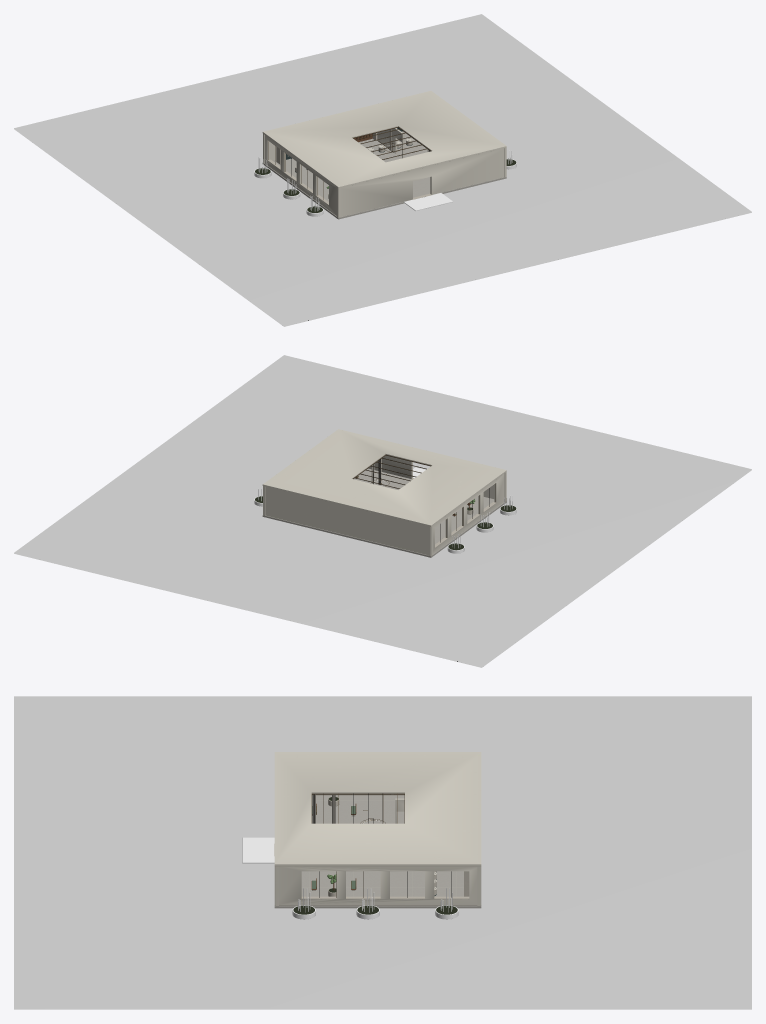
The model's file is architecture.glb.
3 views of the same model, one above another, from view 1: azimuth 30°, elevation 25°; view 2: azimuth 150°, elevation 25°; view 3: azimuth 270°, elevation 25° (orthographic). The views are drawn at different scales.
Parts seen in each view (by area): view 1: Architecture exterior, Architecture shell, Architecture floor; view 2: Architecture exterior, Architecture shell, Architecture floor; view 3: Architecture exterior, Architecture shell, Architecture floor, Architecture furnishings.
Boxes of the visible parts, bbox=[...] form: Architecture exterior: bbox=[14, 14, 751, 326]; Architecture shell: bbox=[262, 91, 506, 217]; Architecture floor: bbox=[262, 131, 506, 219]; Architecture exterior: bbox=[14, 355, 751, 667]; Architecture shell: bbox=[262, 429, 506, 555]; Architecture floor: bbox=[262, 468, 506, 557]; Architecture exterior: bbox=[14, 696, 751, 1009]; Architecture shell: bbox=[274, 752, 481, 906]; Architecture floor: bbox=[274, 795, 481, 908]; Architecture furnishings: bbox=[311, 797, 436, 896].
Bounding box in the file's own units: 150 × 10.22 × 150.
Materials: 24 (17 with a texture image).
